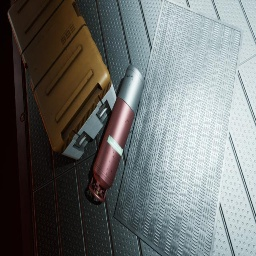NitrogenTank ,: (89, 65, 145, 203)
